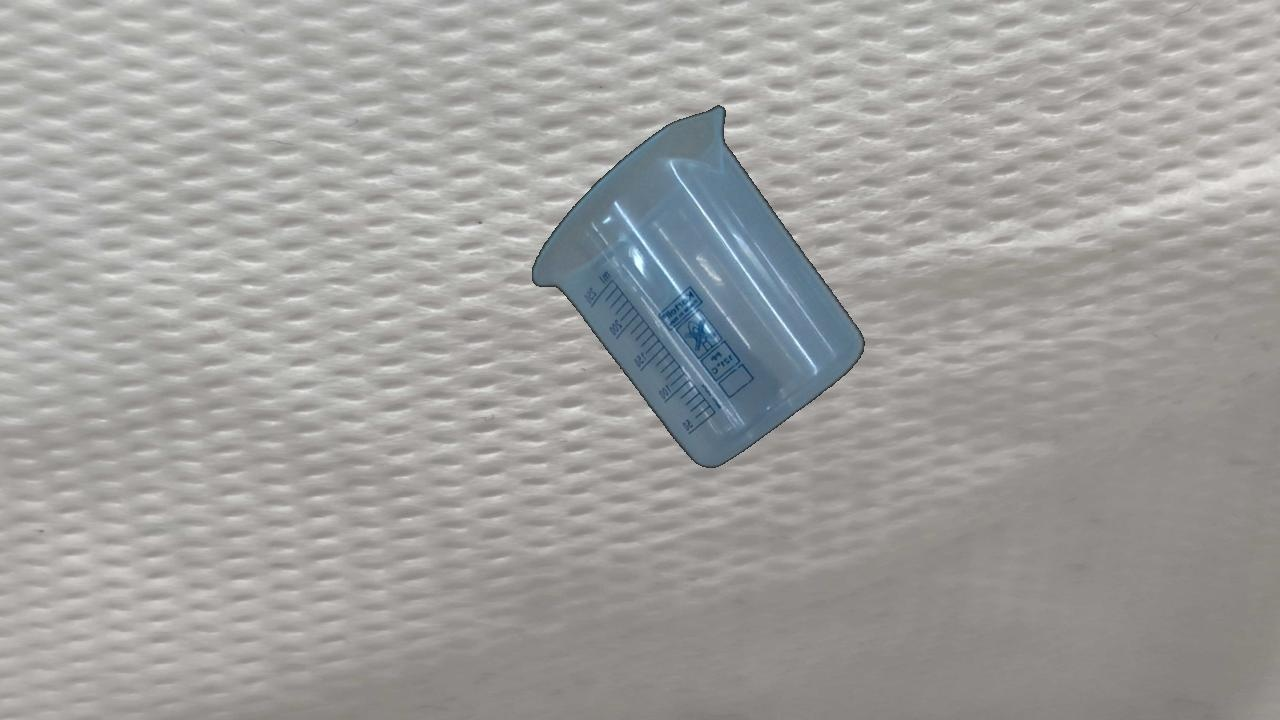becker: (529, 104, 866, 471)
